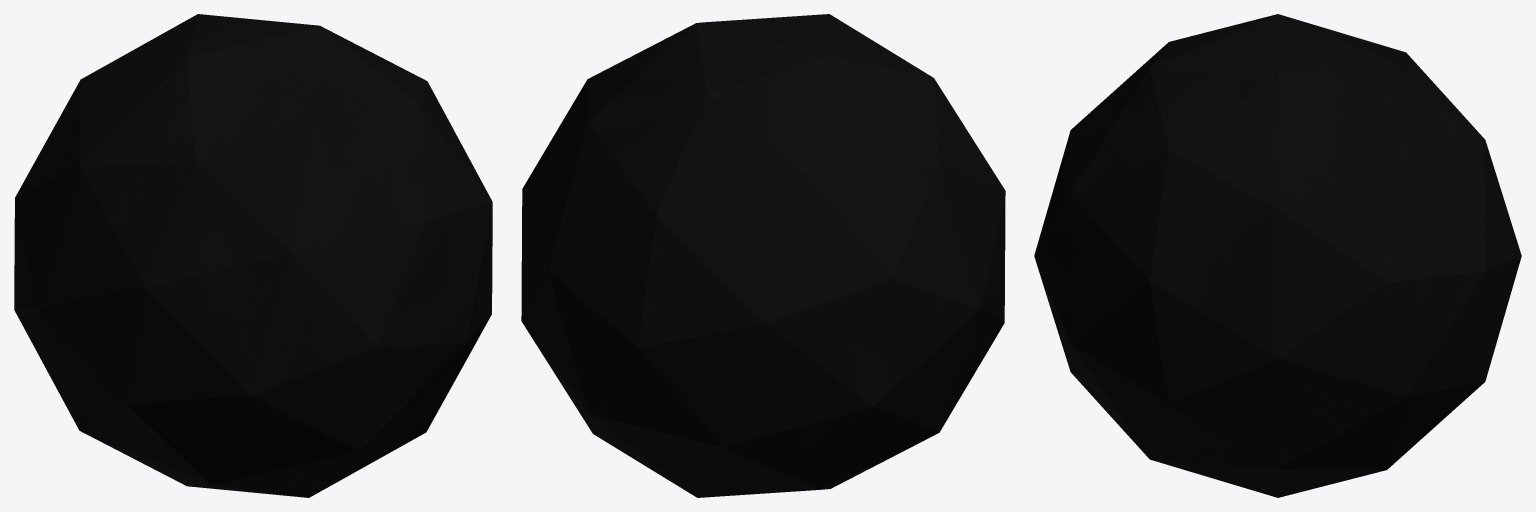
Rendered from minea.obj.
3 renders of one model, left to right at view 1: azimuth 30°, elevation 25°; view 2: azimuth 150°, elevation 25°; view 3: azimuth 270°, elevation 25°, orthographic. The views are drawn at different scales.
Parts seen in each view (by area): view 1: Mine; view 2: Mine; view 3: Mine.
Boxes of the visible parts, x1,y1,x2,y2 form: Mine: [14, 14, 492, 497]; Mine: [521, 14, 1005, 497]; Mine: [1034, 14, 1521, 497].
Bounding box in the file's own units: 2 × 1.9 × 2.
Materials: 1 (1 with a texture image).
